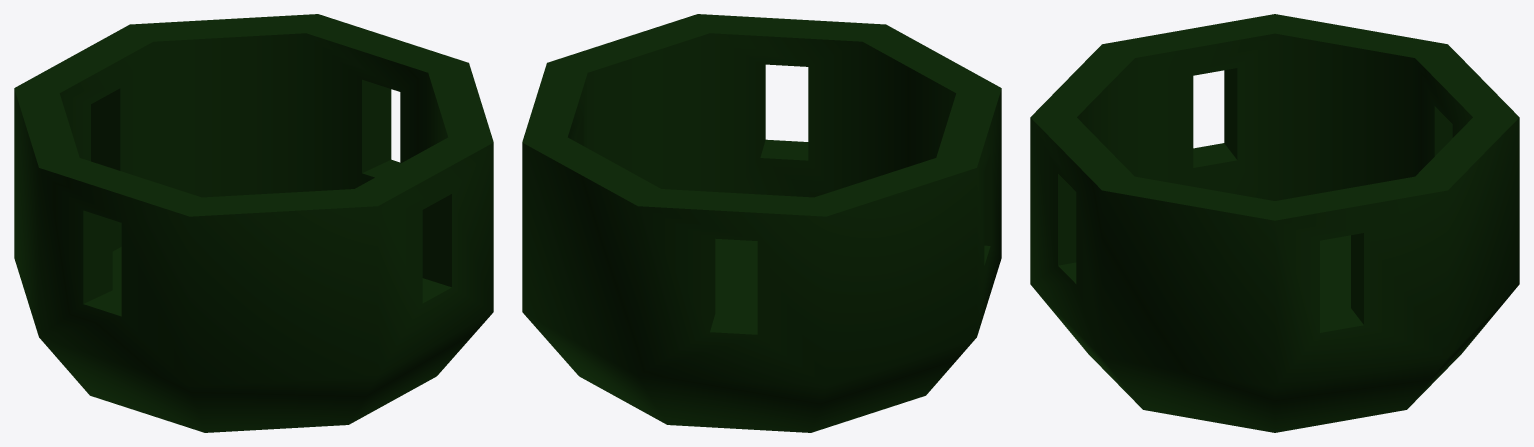
The model's file is round-tower-top-1.fbx.
The picture shows the model from 3 angles, left to right: view 1: azimuth 30°, elevation 25°; view 2: azimuth 150°, elevation 25°; view 3: azimuth 270°, elevation 25°; orthographic projection.
Parts seen in each view (by area): view 1: round-tower-top-1; view 2: round-tower-top-1; view 3: round-tower-top-1.
Part boxes in pixels (x1,y1,x2,y2): round-tower-top-1: (14, 14, 493, 432); round-tower-top-1: (522, 14, 1001, 432); round-tower-top-1: (1030, 14, 1519, 432).
Size of the model in its own units: 4.37 by 2.33 by 4.37.
